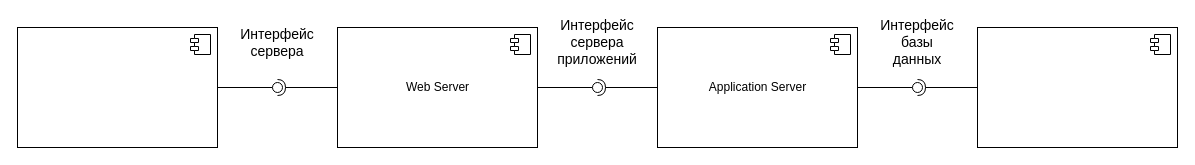
Image size: 1195x165. Some labels were removed from this diagram. Each missing label, with the centre of its shape:
"Client" goes at (x=117, y=87).
"Database" goes at (x=1077, y=87).
